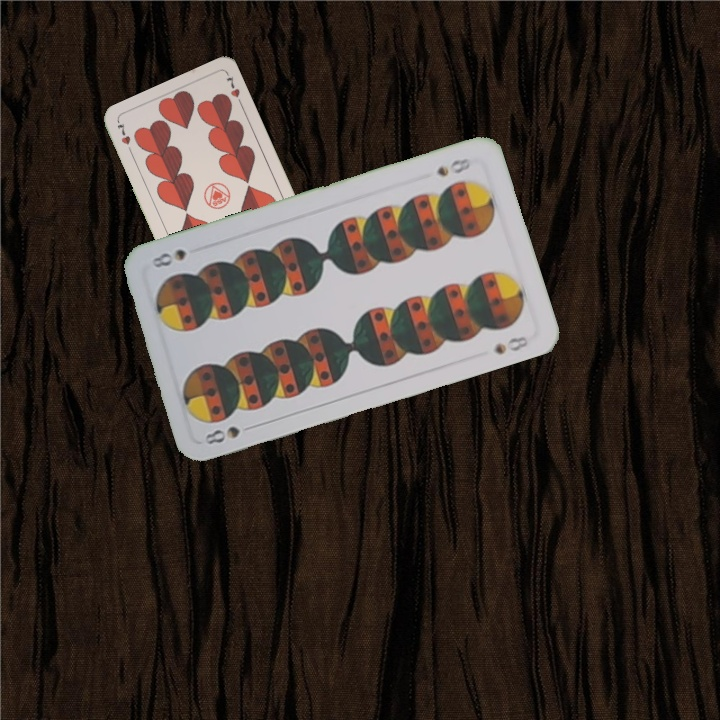H7: (113, 118, 136, 157)
S8: (200, 420, 258, 447), (432, 154, 475, 179)
